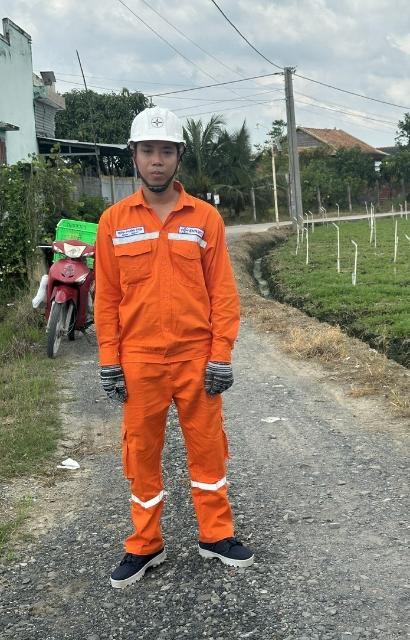gloves: (78, 351, 143, 409), (196, 346, 256, 407)
helmet: (116, 96, 204, 156)
shoes: (94, 522, 170, 595), (188, 510, 261, 570)
